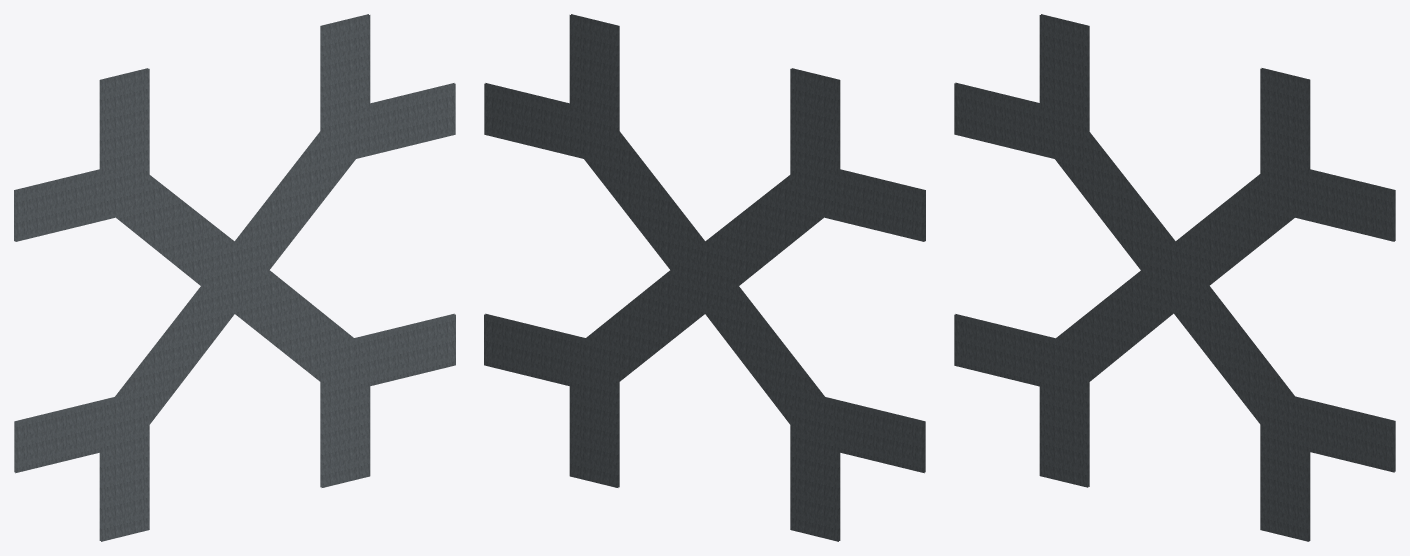
Rendered from floor_1.obj.
3 views of the same model, side by side, from view 1: azimuth 30°, elevation 25°; view 2: azimuth 150°, elevation 25°; view 3: azimuth 330°, elevation 25° (orthographic).
Visible parts, largest first — view 1: floor_1; view 2: floor_1; view 3: floor_1.
Boxes of the visible parts, x1,y1,x2,y2 form: floor_1: (14,14,455,541); floor_1: (484,14,925,541); floor_1: (954,14,1395,541).
Size of the model in its own units: 22.56 by 22.59 by 0.1.
